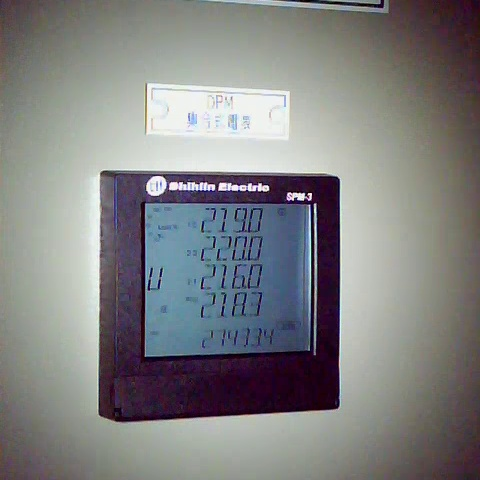1-1: (198, 206, 218, 235)
1-2: (215, 206, 232, 234)
1-3: (232, 205, 249, 234)
1-4: (248, 206, 265, 234)
2-1: (200, 234, 217, 261)
2-2: (216, 234, 234, 263)
2-3: (231, 234, 249, 263)
2-4: (247, 236, 265, 262)
3-1: (198, 263, 218, 292)
3-2: (216, 263, 231, 292)
3-3: (230, 261, 248, 292)
3-4: (246, 262, 266, 292)
4-1: (199, 290, 218, 319)
4-2: (215, 290, 231, 319)
4-3: (231, 291, 249, 319)
4-4: (247, 290, 268, 320)
5-1: (198, 327, 216, 352)
5-2: (214, 327, 228, 352)
5-3: (225, 324, 241, 351)
5-4: (238, 325, 253, 350)
5-5: (250, 325, 265, 350)
5-6: (262, 326, 277, 349)
